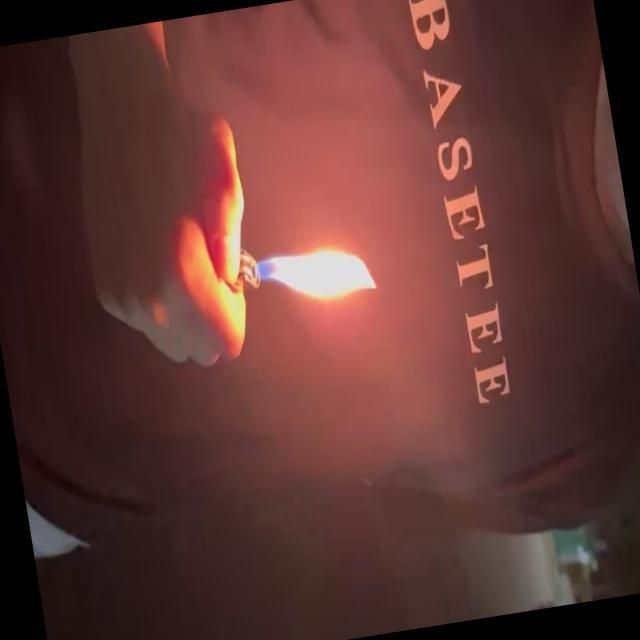Fire: (248, 236, 382, 319)
